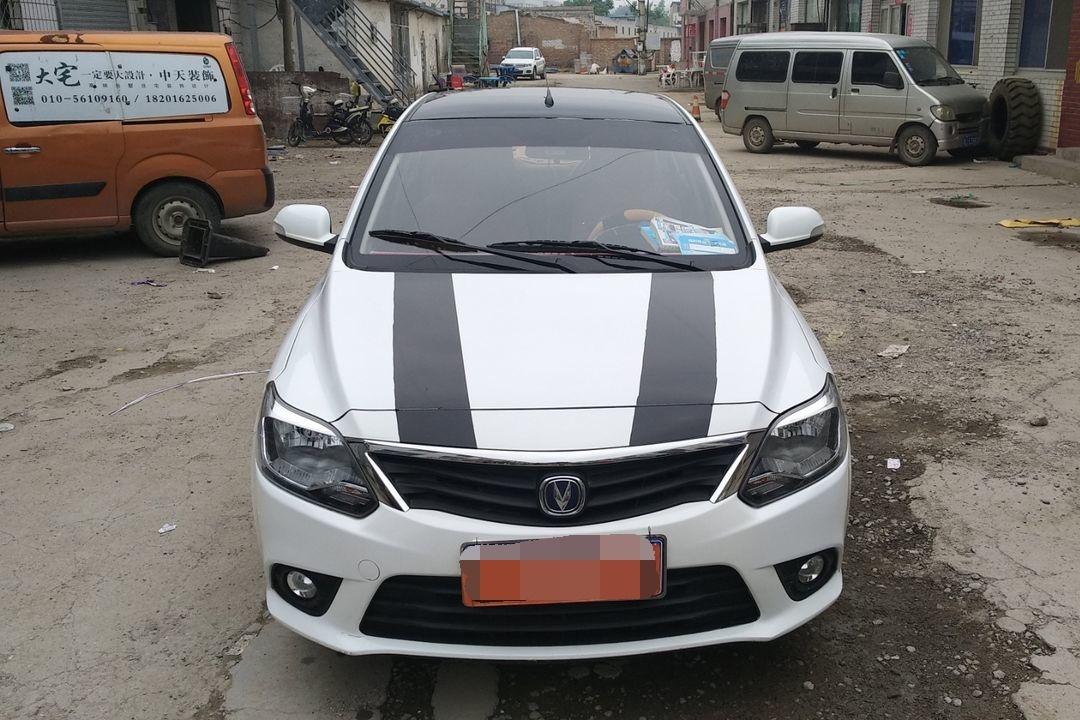family sedan: (265, 59, 840, 676)
minibus: (6, 32, 263, 248), (714, 38, 1003, 174)
